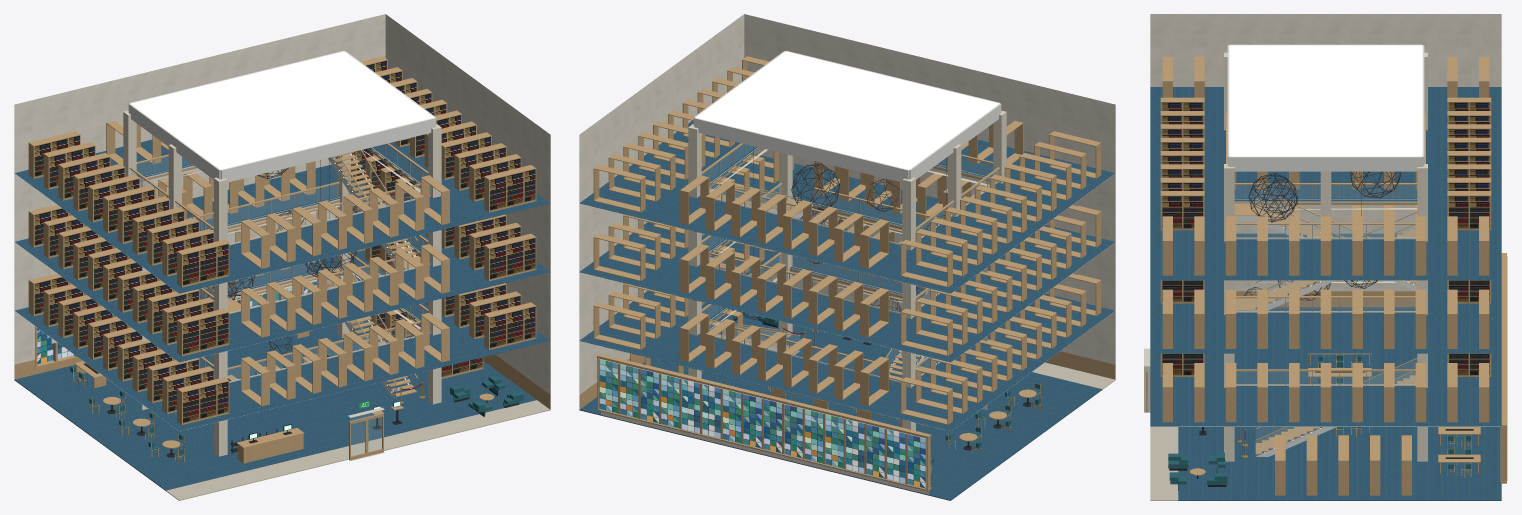
Rendered from us_lawlib.glb.
The picture shows the model from 3 angles, left to right: view 1: azimuth 30°, elevation 25°; view 2: azimuth 150°, elevation 25°; view 3: azimuth 270°, elevation 25°; orthographic projection. The views are drawn at different scales.
Visible parts, largest first — view 1: usll_carpet, usll_oak, usll_shelf_faces, usll_skylight, WALL_N_wall, WALL_E_wall, usll_cream, usll_rail_glass, usll_stair_white, usll_floor_stone, usll_upholstery, usll_wire_spheres (+6 smaller); view 2: usll_oak, usll_carpet, WALL_S_wall, usll_skylight, WALL_N_stained, WALL_E_wall, usll_cream, usll_rail_glass, WALL_N_wainscot, usll_stair_white, usll_wire_spheres, WALL_N_wall (+6 smaller); view 3: usll_carpet, usll_oak, usll_skylight, WALL_W_wall, usll_shelf_faces, usll_rail_glass, usll_stair_white, usll_cream, usll_wire_spheres, usll_floor_stone, usll_upholstery, WALL_N_wainscot (+2 smaller).
Boxes of the visible parts, x1,y1,x2,y2 form: usll_carpet: (14,139,550,490); usll_oak: (28,56,536,463); usll_shelf_faces: (34,60,535,423); usll_skylight: (130,51,434,169); WALL_N_wall: (14,14,385,379); WALL_E_wall: (385,14,550,409); usll_cream: (123,110,441,456); usll_rail_glass: (131,145,430,395); usll_stair_white: (128,50,436,398); usll_floor_stone: (166,400,550,500); usll_upholstery: (70,353,523,456); usll_wire_spheres: (199,158,357,356); usll_oak: (593,56,1101,473); usll_carpet: (579,120,1115,500); WALL_S_wall: (744,14,1115,379); usll_skylight: (695,51,999,169); WALL_N_stained: (599,359,925,488); WALL_E_wall: (579,14,744,409); usll_cream: (688,110,1006,430); usll_rail_glass: (699,145,998,376); WALL_N_wainscot: (597,354,931,491); usll_stair_white: (693,50,1001,374); usll_wire_spheres: (742,146,946,319); WALL_N_wall: (601,411,929,494); usll_carpet: (1150,87,1501,500); usll_oak: (1160,56,1491,495); usll_skylight: (1229,45,1422,156); WALL_W_wall: (1150,14,1501,291); usll_shelf_faces: (1161,102,1490,376); usll_rail_glass: (1235,185,1416,454); usll_stair_white: (1227,44,1424,456); usll_cream: (1224,52,1427,461); usll_wire_spheres: (1244,171,1400,309); usll_floor_stone: (1150,427,1178,500); usll_upholstery: (1168,354,1471,489); WALL_N_wainscot: (1500,253,1506,483).
Size of the model in its own units: 26 by 19.35 by 20.7.
Materials: 23 (7 with a texture image).
